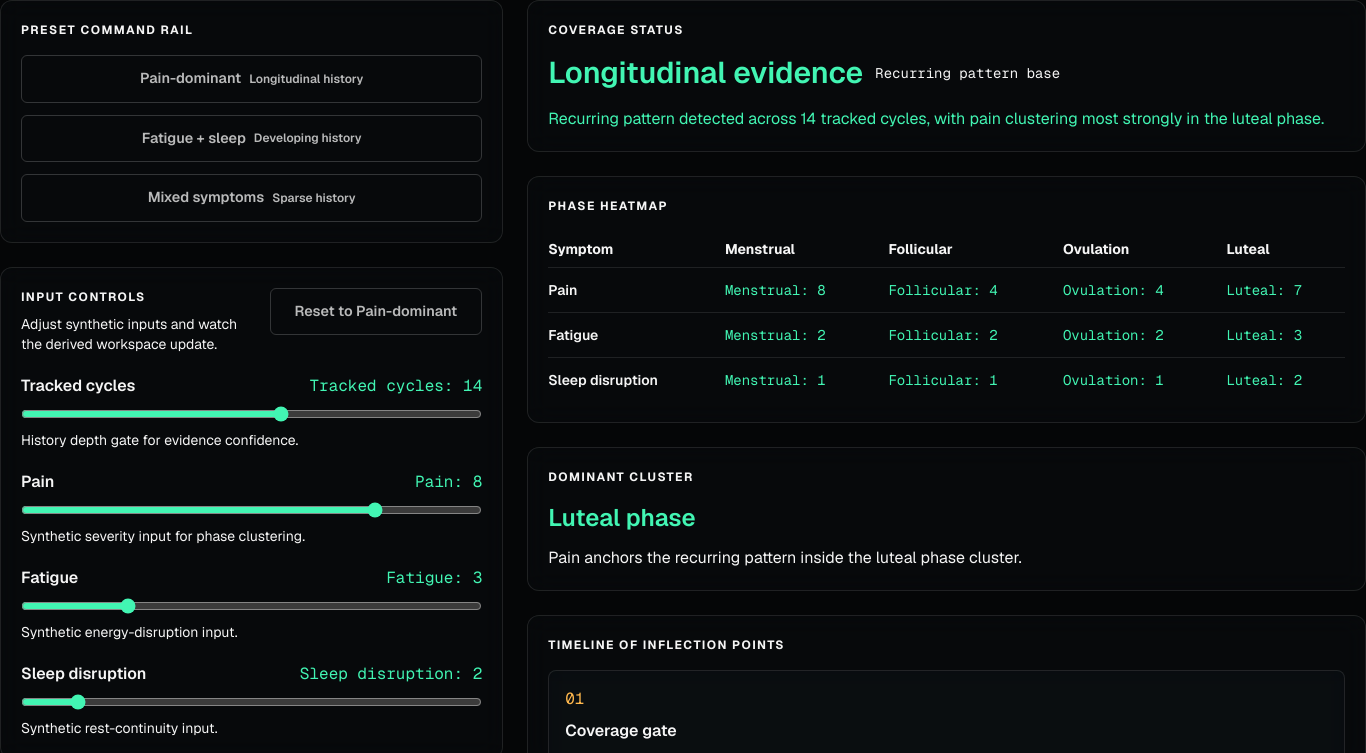
InteractiveFrameworkPreview › updates visible derived output when a slider changes
Set the slider labelled "Fatigue" to "5" at (227, 606), box [21,598,482,614]
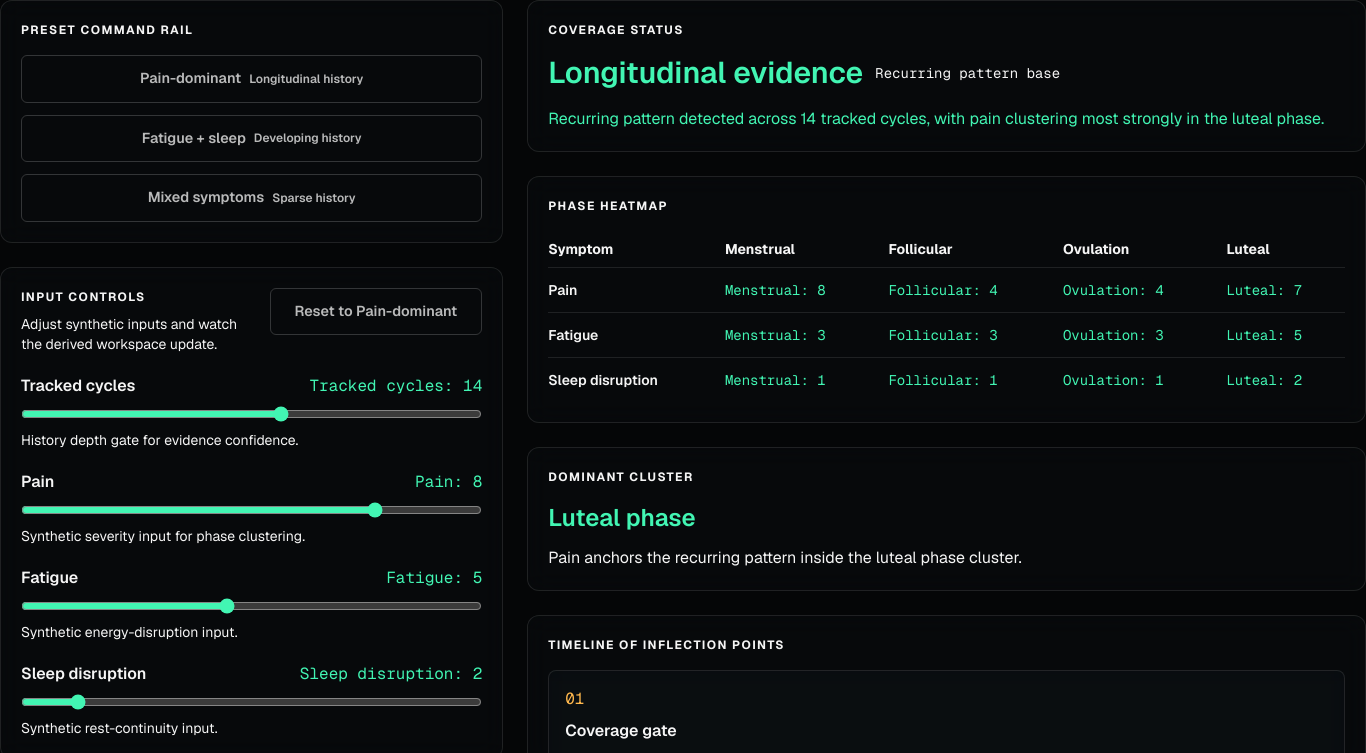
Expected: the text "Fatigue: 5" is shown, [386,566,482,590]
